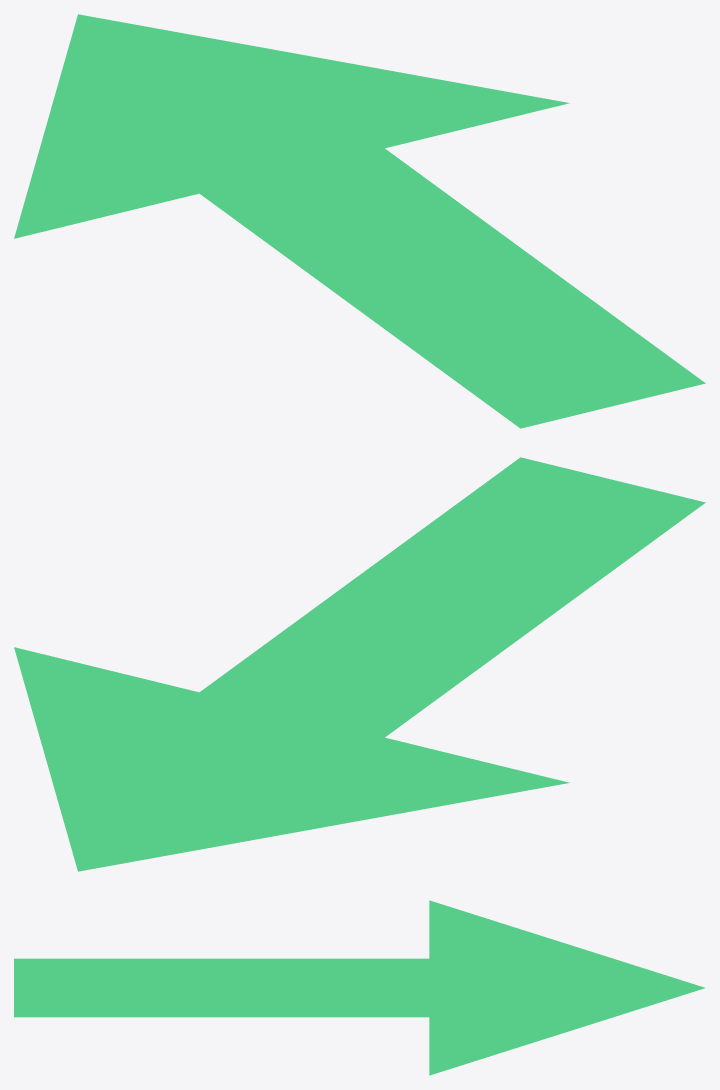
The model's file is arrow.gltf.
3 renders of one model, top to bottom at view 1: azimuth 30°, elevation 25°; view 2: azimuth 150°, elevation 25°; view 3: azimuth 270°, elevation 25°, orthographic. The views are drawn at different scales.
Size of the model in its own units: 0.6 by 0 by 1.
